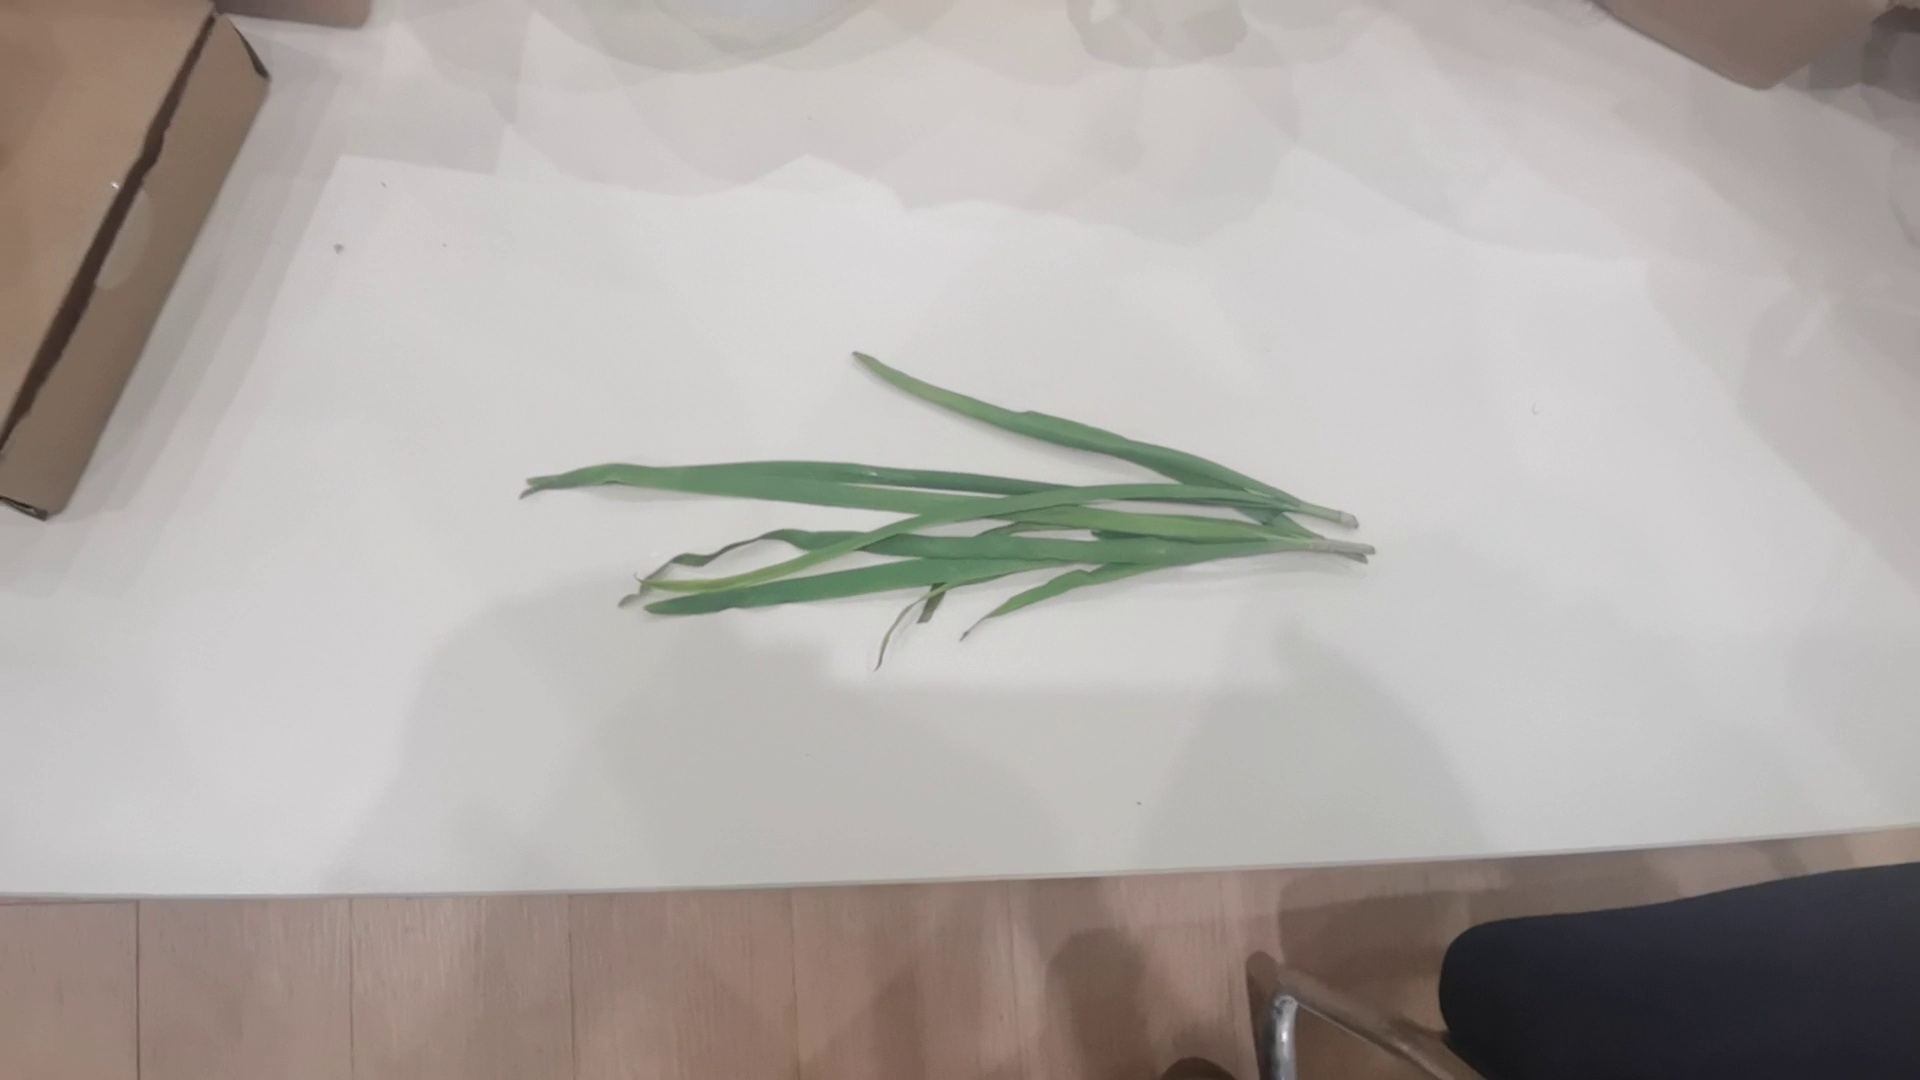chives: (504, 330, 1393, 686)
